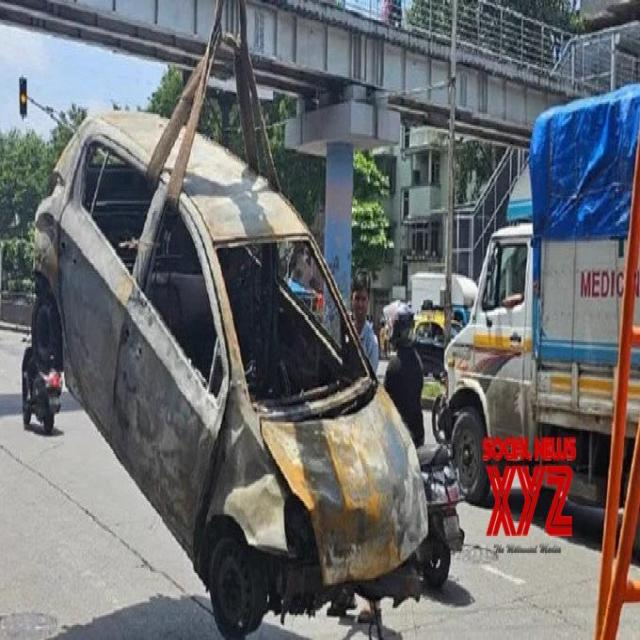accident: (36, 71, 428, 636)
truck: (445, 85, 640, 498)
